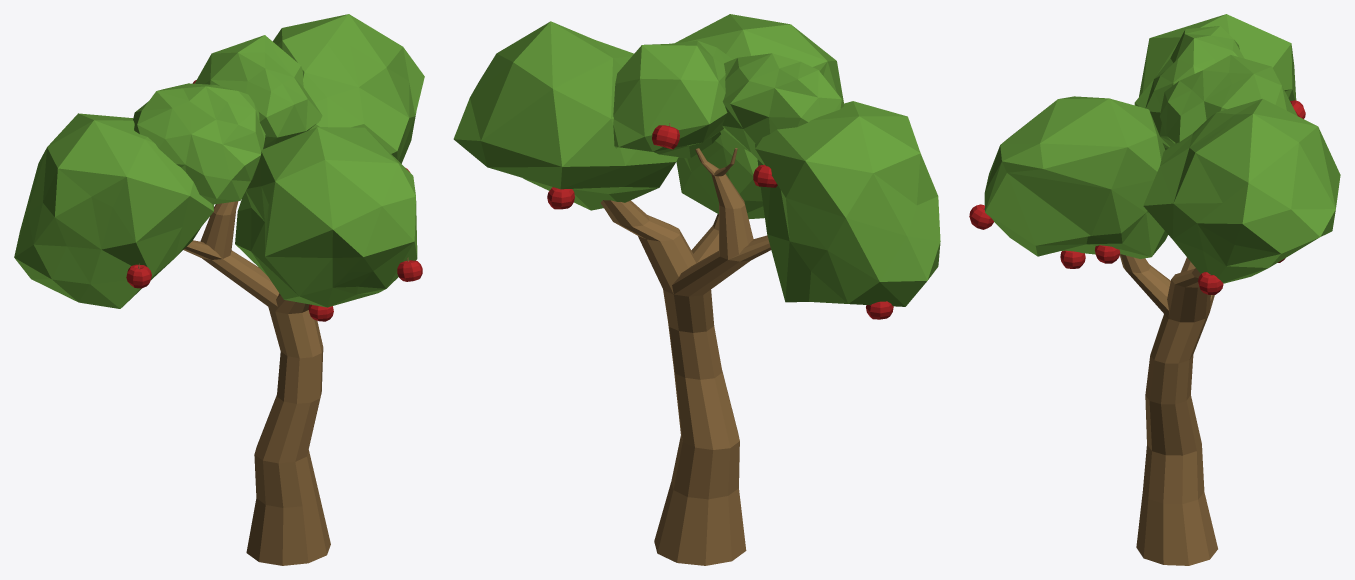
Rendered from Tree1.fbx.
3 renders of one model, left to right at view 1: azimuth 30°, elevation 25°; view 2: azimuth 150°, elevation 25°; view 3: azimuth 270°, elevation 25°, orthographic. The views are drawn at different scales.
Visible parts, largest first — view 1: Icosphere, Cylinder, Sphere.006; view 2: Icosphere, Cylinder, Sphere.006; view 3: Icosphere, Cylinder, Sphere.006.
Boxes of the visible parts, x1,y1,x2,y2 form: Icosphere: (14,14,424,308); Cylinder: (183,201,330,565); Sphere.006: (126,80,422,321); Icosphere: (453,14,940,306); Cylinder: (601,148,771,565); Sphere.006: (547,123,893,319); Icosphere: (984,14,1340,283); Cylinder: (1119,254,1217,565); Sphere.006: (969,100,1305,294).
Size of the model in its own units: 767 by 864 by 602.
